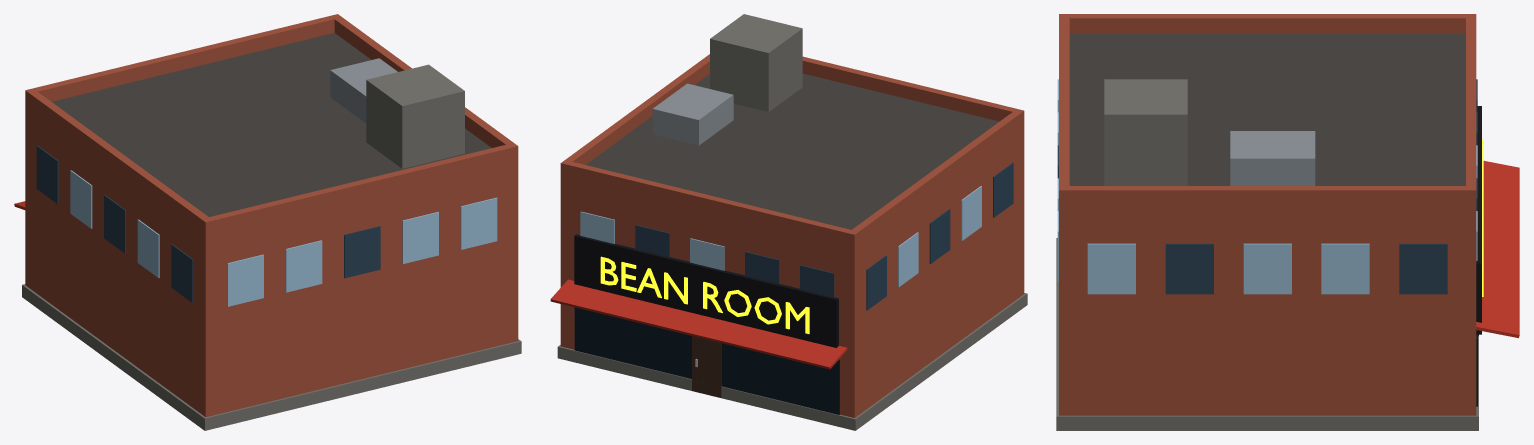
Rendered from bld_shop_b.glb.
3 renders of one model, left to right at view 1: azimuth 30°, elevation 25°; view 2: azimuth 150°, elevation 25°; view 3: azimuth 270°, elevation 25°, orthographic. The views are drawn at different scales.
Parts seen in each view (by area): view 1: bld_shop_b__mesh; view 2: bld_shop_b__mesh, bld_shop_b__signboard, bld_shop_b__sign; view 3: bld_shop_b__mesh, bld_shop_b__signboard.
Part boxes in pixels (x1=…): bld_shop_b__mesh: x1=14, y1=14, x2=521, y2=430; bld_shop_b__mesh: x1=550, y1=14, x2=1027, y2=430; bld_shop_b__signboard: x1=574, y1=234, x2=838, y2=347; bld_shop_b__sign: x1=600, y1=256, x2=809, y2=333; bld_shop_b__mesh: x1=1056, y1=14, x2=1519, y2=430; bld_shop_b__signboard: x1=1476, y1=106, x2=1481, y2=334.
Bounding box in the file's own units: 12.16 × 9.4 × 13.33.
